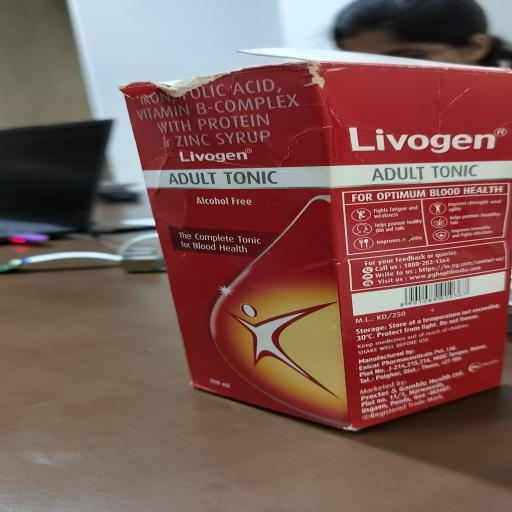Livogen: (316, 122, 498, 155), (172, 144, 266, 159)
medicine: (165, 86, 512, 393)
